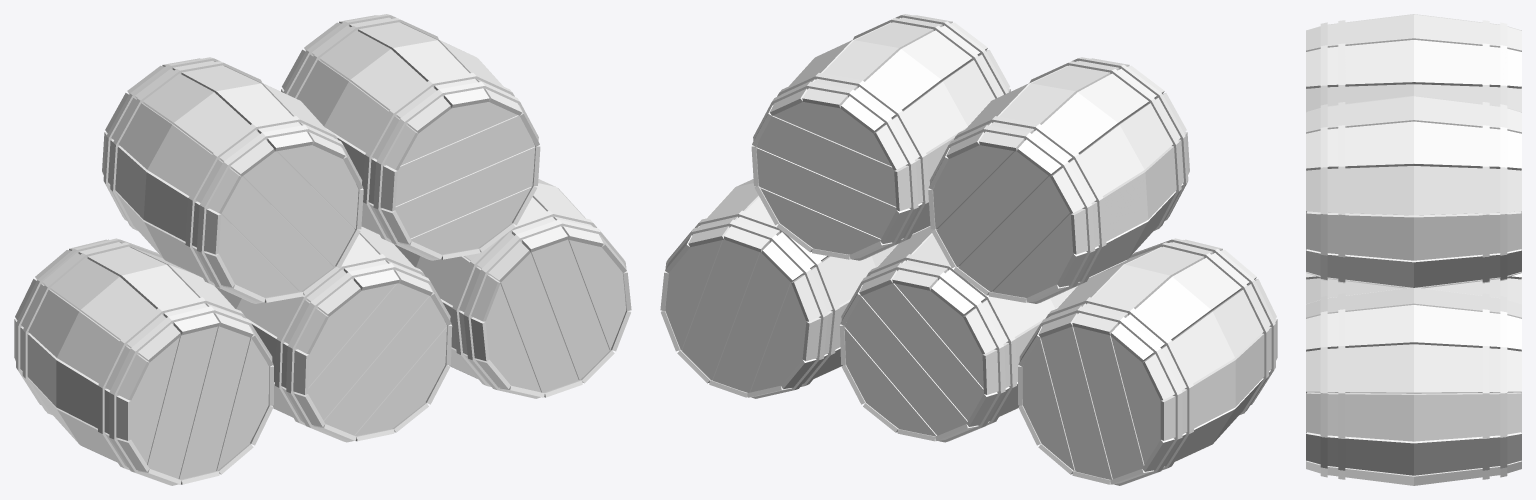
File: Prop_Barrel_Pile_01.glb
The picture shows the model from 3 angles, left to right: view 1: azimuth 30°, elevation 25°; view 2: azimuth 150°, elevation 25°; view 3: azimuth 270°, elevation 25°; orthographic projection. The views are drawn at different scales.
Parts seen in each view (by area): view 1: Prop_Barrel_Pile_01; view 2: Prop_Barrel_Pile_01; view 3: Prop_Barrel_Pile_01.
Part boxes in pixels (x1,y1,x2,y2): Prop_Barrel_Pile_01: [14, 14, 631, 485]; Prop_Barrel_Pile_01: [660, 14, 1277, 485]; Prop_Barrel_Pile_01: [1306, 14, 1521, 485].
Bounding box in the file's own units: 2.44 × 1.52 × 0.9.
Materials: 1 (1 with a texture image).
